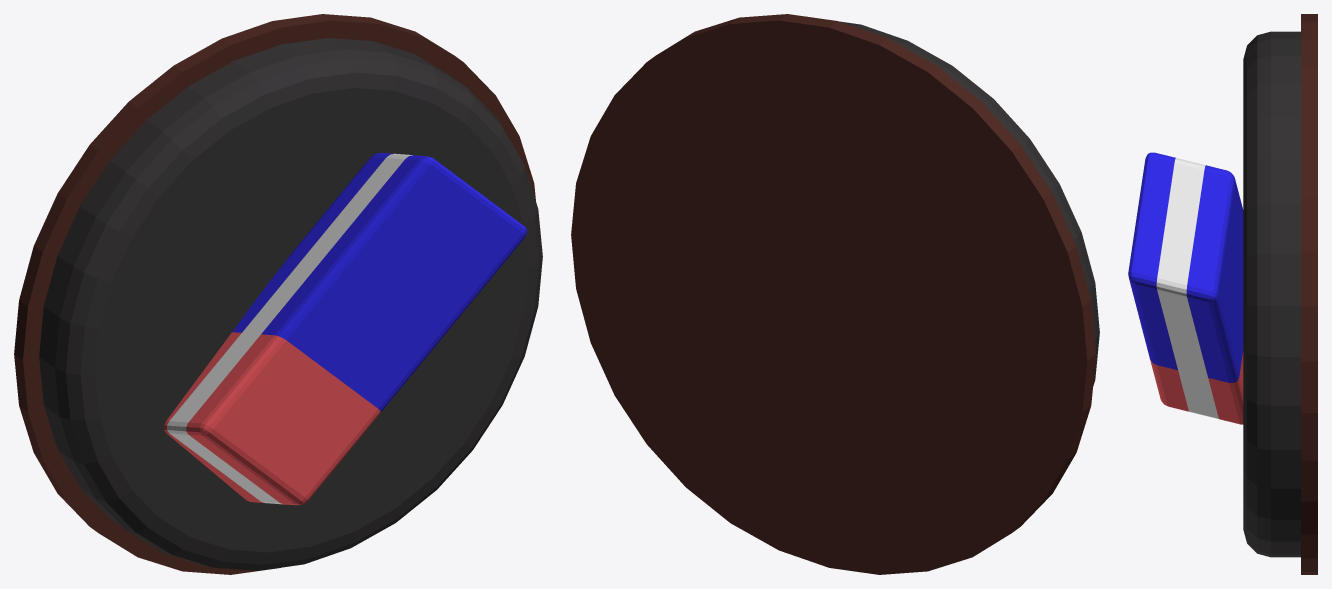
Rendered from EraseButtonNormal.glb.
3 renders of one model, left to right at view 1: azimuth 30°, elevation 25°; view 2: azimuth 150°, elevation 25°; view 3: azimuth 270°, elevation 25°, orthographic. The views are drawn at different scales.
Parts seen in each view (by area): view 1: Cylinder, Cube.001; view 2: Cylinder; view 3: Cylinder, Cube.001.
Boxes of the visible parts, bbox=[...] form: Cylinder: bbox=[14, 14, 542, 574]; Cube.001: bbox=[164, 153, 526, 505]; Cylinder: bbox=[571, 14, 1099, 574]; Cylinder: bbox=[1243, 14, 1317, 574]; Cube.001: bbox=[1128, 152, 1243, 424].
Size of the model in its own units: 1 by 1 by 0.3378.
